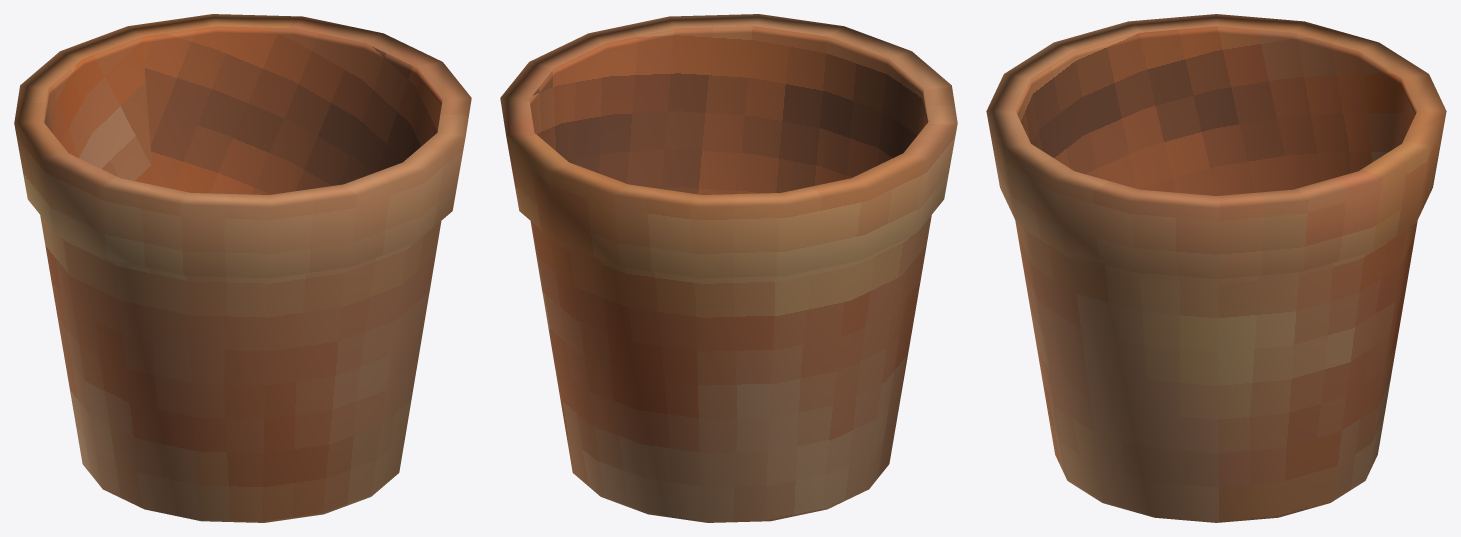
Rendered from objects_un_t01flowerpots07.gltf.
3 renders of one model, left to right at view 1: azimuth 30°, elevation 25°; view 2: azimuth 150°, elevation 25°; view 3: azimuth 270°, elevation 25°, orthographic.
Visible parts, largest first — view 1: objects_un_t01flowerpots07_mesh_shape:objects_un_t01flowerpo; view 2: objects_un_t01flowerpots07_mesh_shape:objects_un_t01flowerpo; view 3: objects_un_t01flowerpots07_mesh_shape:objects_un_t01flowerpo.
Part boxes in pixels (x1,y1,x2,y2): objects_un_t01flowerpots07_mesh_shape:objects_un_t01flowerpo: (14,14,471,522); objects_un_t01flowerpots07_mesh_shape:objects_un_t01flowerpo: (500,14,957,522); objects_un_t01flowerpots07_mesh_shape:objects_un_t01flowerpo: (986,14,1446,522).
Size of what is drawn, in the model's own units: 0.3747 by 0.3087 by 0.3747.
1 material, 1 textured.
